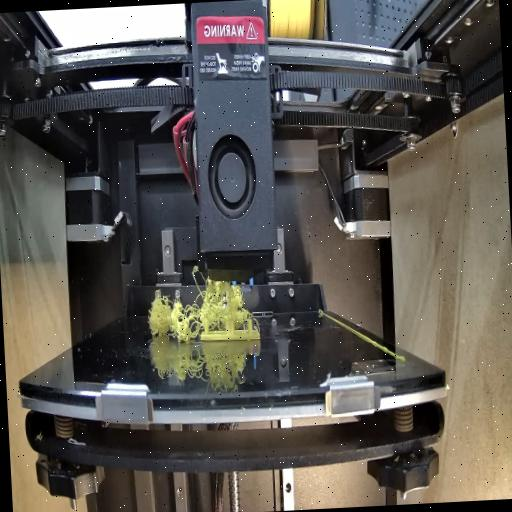spaghetti: (150, 264, 249, 335)
